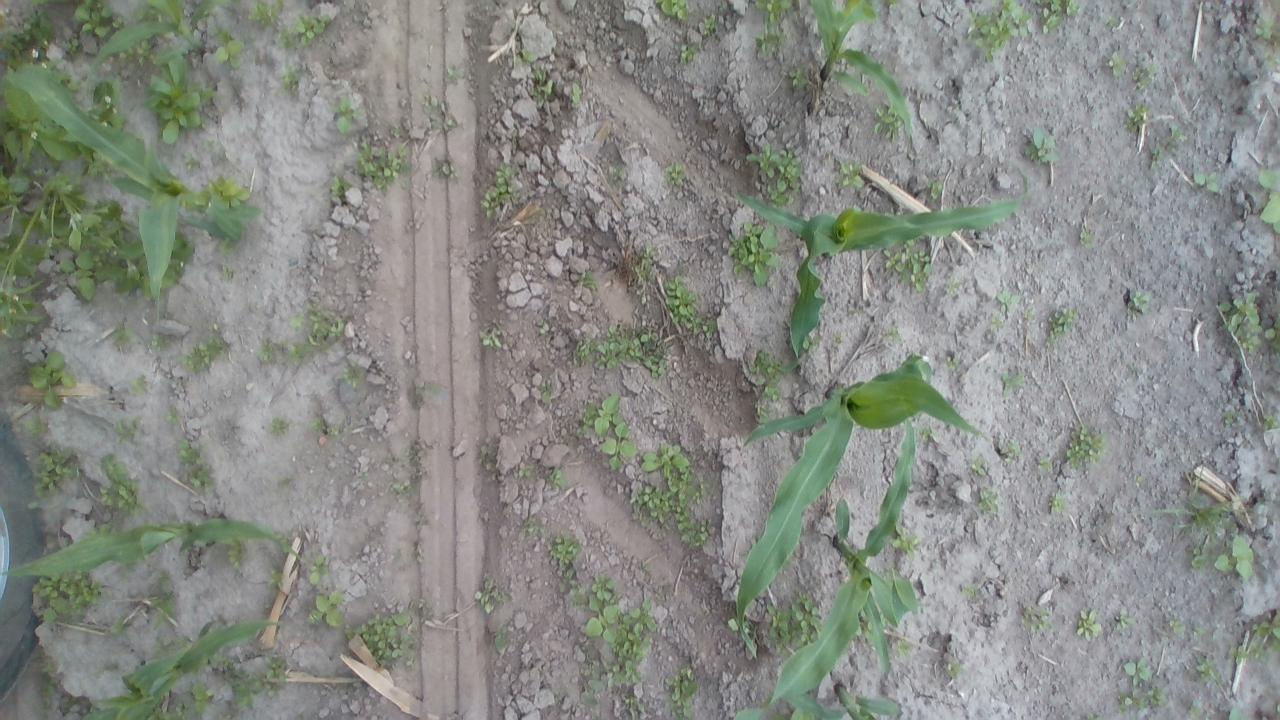Maize: (736, 354, 990, 660), (9, 62, 260, 321), (730, 168, 1032, 370), (730, 419, 923, 720), (82, 617, 282, 720), (3, 520, 300, 576), (810, 0, 913, 138), (90, 0, 209, 67), (785, 680, 899, 720)
Weeds: (0, 176, 140, 338), (628, 443, 712, 548), (1150, 463, 1248, 544), (566, 318, 668, 377), (149, 56, 217, 144), (606, 594, 654, 692), (579, 395, 636, 473), (748, 138, 801, 210), (968, 0, 1028, 61), (349, 612, 412, 669), (726, 222, 778, 288), (32, 577, 102, 626), (1, 5, 59, 64), (764, 586, 820, 646), (26, 350, 80, 412), (578, 573, 622, 649), (94, 453, 149, 512), (664, 278, 715, 338), (215, 661, 268, 717), (750, 351, 784, 425), (30, 450, 80, 500), (358, 138, 407, 188), (520, 46, 558, 108), (1220, 297, 1262, 353), (248, 0, 294, 50), (1066, 423, 1110, 473), (882, 250, 934, 291), (72, 0, 126, 37), (1251, 1, 1280, 69), (1252, 164, 1280, 234), (663, 666, 699, 720), (1216, 538, 1258, 582), (181, 336, 231, 372), (483, 161, 515, 216), (305, 588, 344, 632), (548, 535, 584, 581), (1149, 124, 1185, 168), (305, 308, 347, 344), (1024, 127, 1062, 166), (1037, 0, 1079, 35), (296, 10, 332, 50), (202, 179, 250, 209), (36, 657, 60, 712), (472, 578, 506, 616), (213, 29, 244, 70), (871, 100, 902, 140), (1019, 603, 1054, 634), (334, 95, 361, 134), (1049, 306, 1080, 339), (751, 0, 792, 24), (1118, 688, 1162, 710), (838, 158, 868, 190), (634, 244, 658, 282), (148, 592, 176, 624), (0, 172, 28, 204), (111, 417, 144, 444), (1076, 608, 1102, 642), (1253, 614, 1280, 646), (306, 554, 334, 584), (892, 526, 921, 554), (23, 416, 55, 441), (1190, 166, 1218, 193), (995, 288, 1024, 314), (223, 542, 250, 569), (1265, 305, 1280, 353), (1125, 656, 1149, 686), (1129, 66, 1156, 92), (421, 380, 448, 406), (978, 485, 1000, 516), (328, 176, 353, 203), (175, 441, 203, 465), (188, 680, 212, 708), (1126, 103, 1150, 130), (185, 464, 212, 488), (149, 704, 188, 720), (1124, 291, 1148, 317), (652, 0, 686, 18), (753, 33, 783, 53), (1194, 656, 1218, 681), (260, 654, 287, 675), (1227, 641, 1247, 668), (996, 369, 1024, 388), (384, 450, 415, 467), (343, 364, 365, 386), (894, 638, 918, 658), (134, 42, 154, 66), (1110, 52, 1128, 78), (481, 325, 499, 350), (536, 379, 554, 404), (666, 160, 682, 188), (1188, 546, 1208, 568), (678, 42, 698, 64), (313, 417, 335, 437), (548, 466, 568, 488), (283, 72, 304, 92), (217, 263, 238, 283), (288, 341, 308, 362), (1002, 440, 1021, 462), (604, 158, 623, 180), (115, 328, 134, 350), (262, 338, 278, 364), (440, 112, 458, 134), (970, 456, 986, 480), (160, 406, 184, 422), (880, 324, 900, 343), (788, 69, 808, 88), (926, 182, 946, 201), (581, 270, 600, 290), (1115, 609, 1134, 629), (1048, 494, 1066, 514), (1036, 453, 1052, 475), (943, 658, 961, 677), (825, 332, 842, 352), (570, 84, 586, 105), (496, 627, 510, 651), (270, 420, 292, 435), (64, 40, 84, 56), (447, 64, 467, 80), (704, 14, 717, 38), (151, 334, 173, 348), (1079, 232, 1096, 249), (524, 515, 540, 533), (1251, 646, 1269, 662), (393, 481, 411, 497), (962, 580, 978, 598), (130, 376, 148, 392), (1228, 709, 1254, 720), (946, 348, 960, 368), (436, 158, 450, 178), (420, 599, 432, 622), (1264, 414, 1280, 431), (1168, 619, 1184, 636), (1186, 698, 1204, 712), (62, 698, 76, 716), (423, 98, 438, 114), (110, 618, 124, 634), (518, 464, 534, 478), (1021, 308, 1036, 322), (920, 425, 934, 439), (270, 568, 282, 584), (279, 477, 294, 489), (290, 313, 302, 328), (946, 280, 961, 291), (1224, 410, 1234, 424), (1104, 16, 1115, 26), (991, 316, 1002, 325), (1194, 626, 1202, 634)
